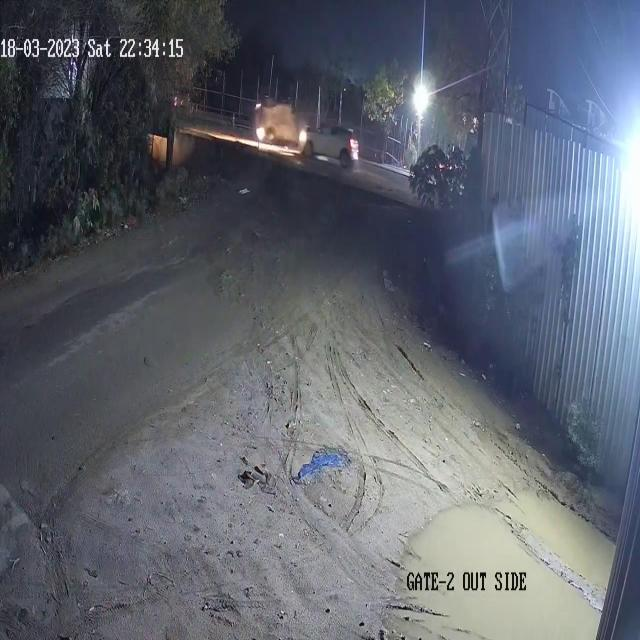accident: (251, 93, 364, 172)
